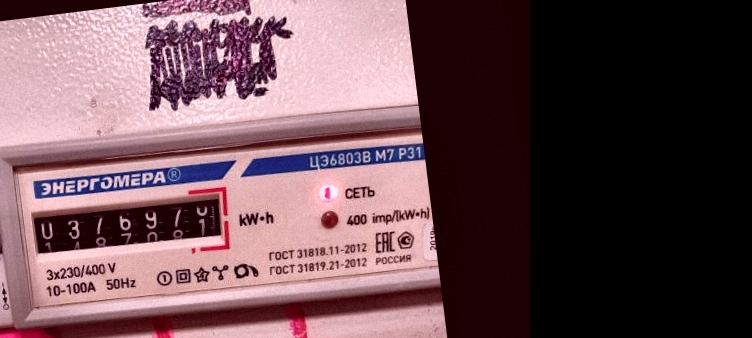0: (37, 216, 53, 240)
1: (195, 215, 208, 237)
3: (65, 217, 81, 240)
6: (115, 207, 133, 231)
7: (89, 211, 107, 237), (167, 203, 185, 228)
9: (141, 206, 158, 229)
screen: (20, 174, 237, 275)
